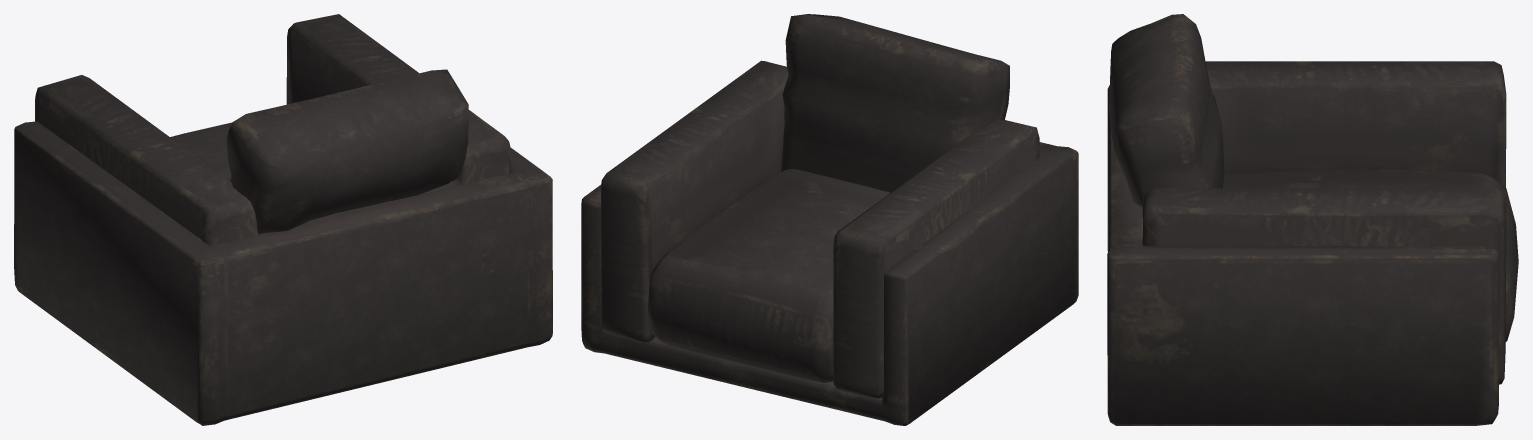
The model's file is SM_Sofa_01.fbx.
3 views of the same model, side by side, from view 1: azimuth 30°, elevation 25°; view 2: azimuth 150°, elevation 25°; view 3: azimuth 270°, elevation 25° (orthographic). The views are drawn at different scales.
Parts seen in each view (by area): view 1: SM_Sofa_01_LOD0; view 2: SM_Sofa_01_LOD0; view 3: SM_Sofa_01_LOD0.
Part boxes in pixels (bbox=[...]): SM_Sofa_01_LOD0: bbox=[14, 14, 552, 425]; SM_Sofa_01_LOD0: bbox=[581, 14, 1078, 425]; SM_Sofa_01_LOD0: bbox=[1107, 14, 1518, 425].
Bounding box in the file's own units: 154 × 151 × 113.
